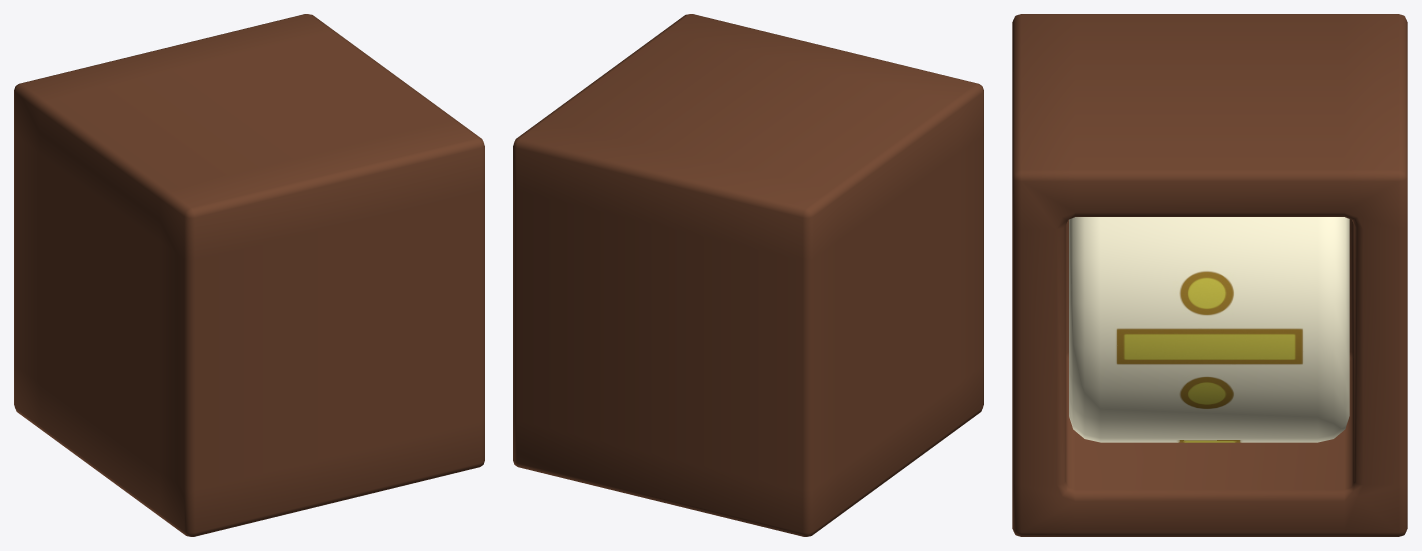
The model's file is barabanMIDDLE.fbx.
The picture shows the model from 3 angles, left to right: view 1: azimuth 30°, elevation 25°; view 2: azimuth 150°, elevation 25°; view 3: azimuth 270°, elevation 25°; orthographic projection. The views are drawn at different scales.
Visible parts, largest first — view 1: korobka middle baraban; view 2: korobka middle baraban; view 3: korobka middle baraban, middle baraban.
Part boxes in pixels (<box>): korobka middle baraban: <box>14,14,484,536</box>; korobka middle baraban: <box>513,14,983,536</box>; korobka middle baraban: <box>1012,14,1407,536</box>; middle baraban: <box>1069,217,1349,442</box>.
Size of the model in its own units: 131 by 137 by 133.
Materials: 2 (1 with a texture image).
